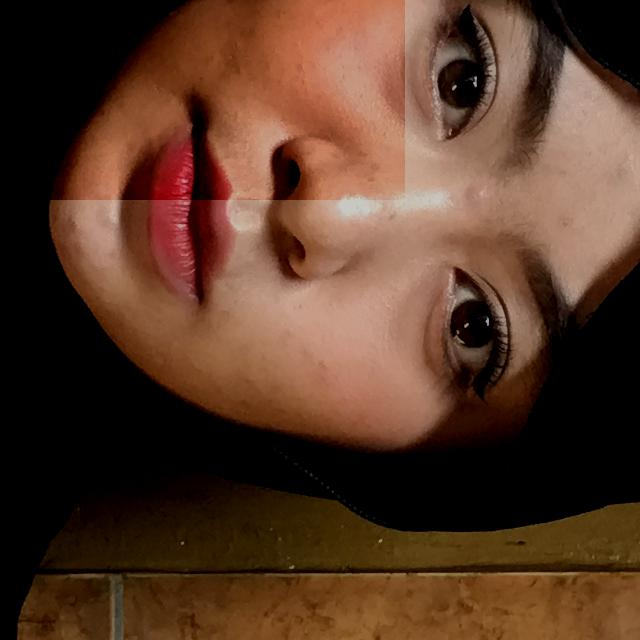ibu: (0, 0, 404, 200)
